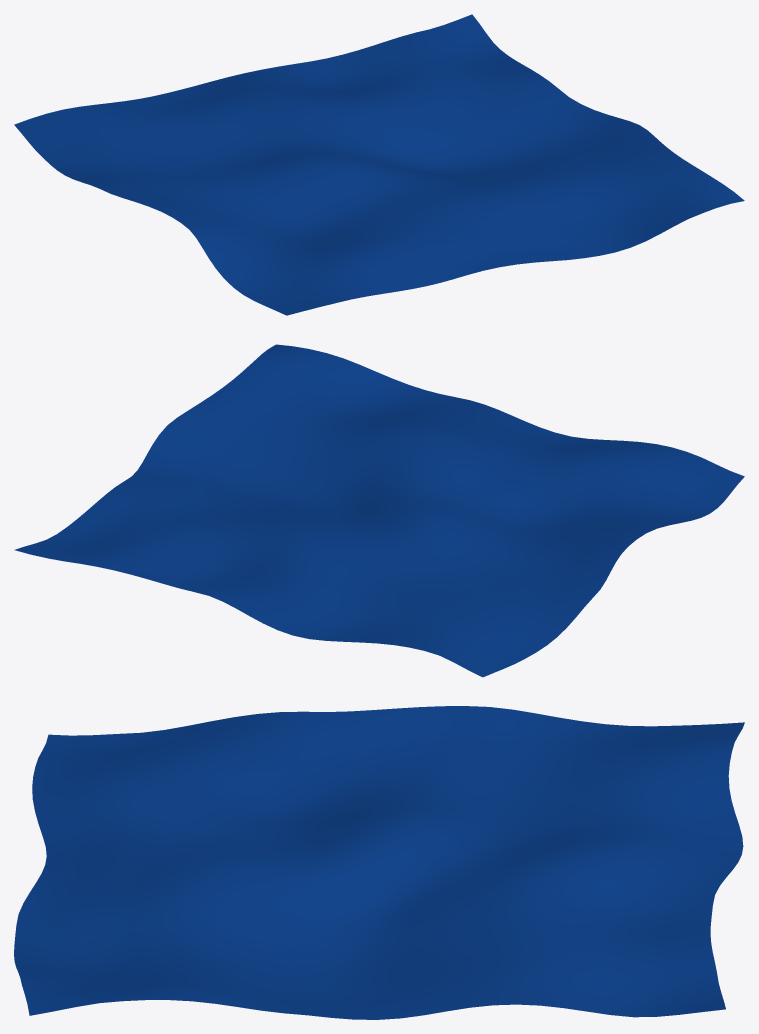
File: wave_7.obj
3 views of the same model, one above another, from view 1: azimuth 30°, elevation 25°; view 2: azimuth 150°, elevation 25°; view 3: azimuth 270°, elevation 25° (orthographic). The views are drawn at different scales.
Parts seen in each view (by area): view 1: Plane001; view 2: Plane001; view 3: Plane001.
Boxes of the visible parts, x1,y1,x2,y2 form: Plane001: [14, 14, 744, 315]; Plane001: [14, 344, 744, 677]; Plane001: [14, 706, 744, 1019].
Size of the model in its own units: 413 by 20.36 by 413.
